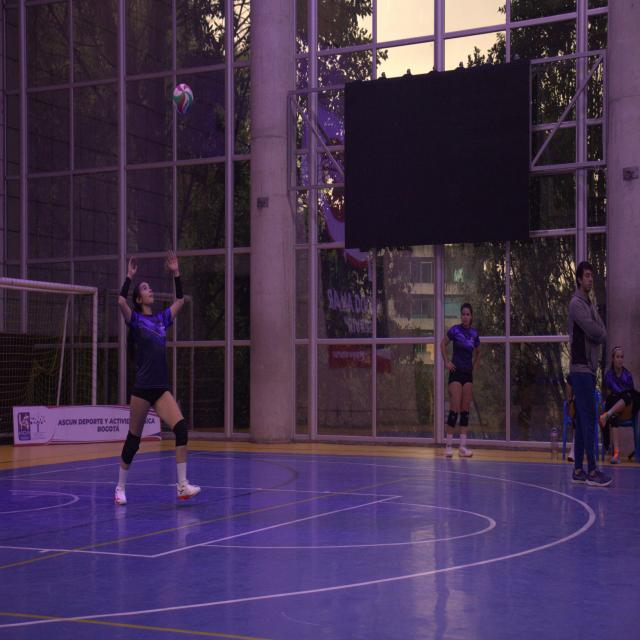volleyball: (174, 83, 194, 113)
